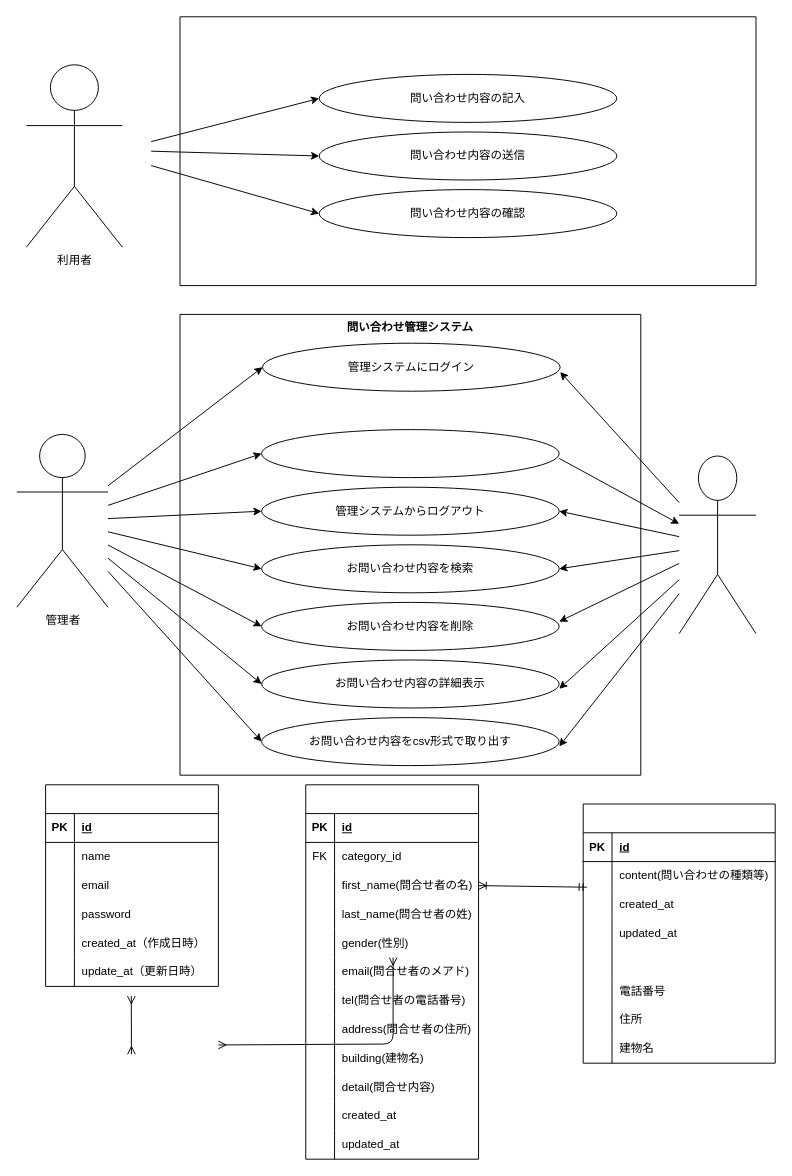
This 792x1176 diagram has some shape labels left out. The box of each missing label's shape, as (x1, y1, x2, y2) in pixels:
categories: (582, 803, 775, 1063)
contacts: (305, 784, 479, 1159)
users: (45, 784, 218, 986)
問い合わせ送信システム: (179, 16, 756, 286)
新規ユーザーの作成・登録: (261, 429, 559, 478)
新規管理者: (678, 455, 756, 634)
